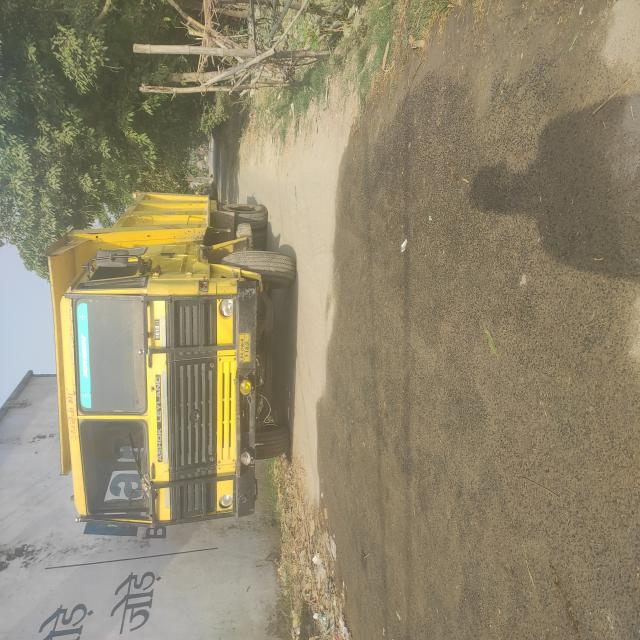Truck: (82, 65, 311, 385)
